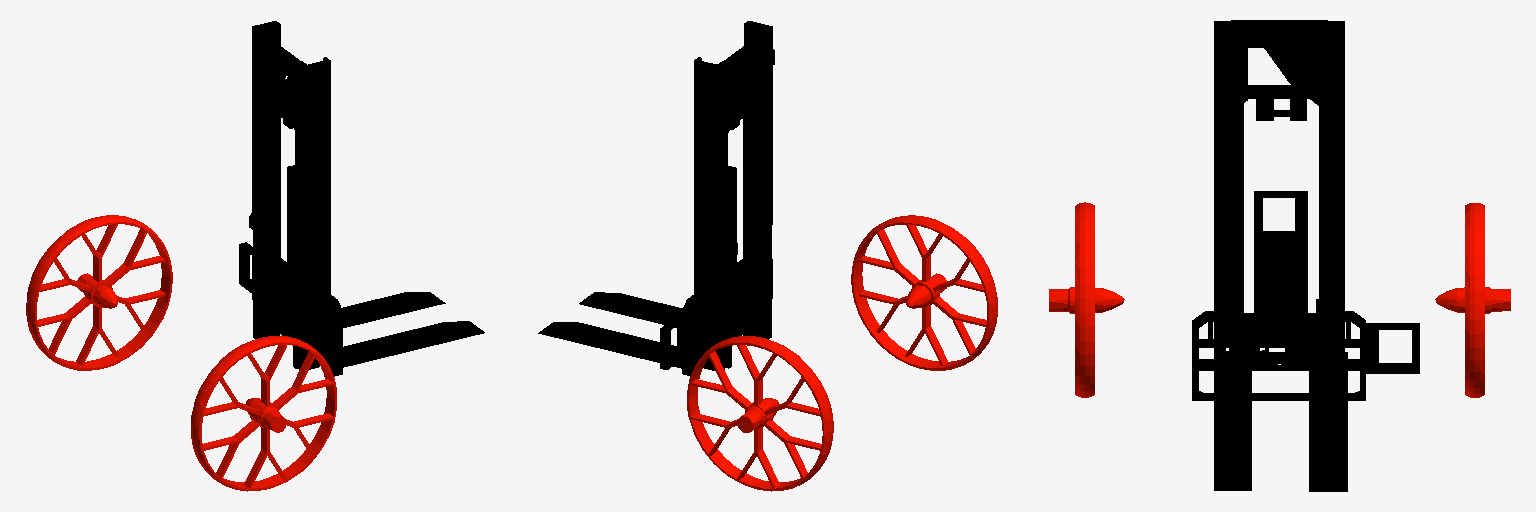
The robot description file, URDF, robot "puzzlebot":
<?xml version="1.0" ?>
<!-- =================================================================================== -->
<!-- |    This document was autogenerated by xacro from puzzlebot.urdf.xacro           | -->
<!-- |    EDITING THIS FILE BY HAND IS NOT RECOMMENDED                                 | -->
<!-- =================================================================================== -->
<robot name="puzzlebot">
  <!--
      Materials for RVIZ visualization (rgb color only)
  -->
  <material name="black">
    <color rgba="0.0 0.0 0.0 1.0"/>
  </material>
  <material name="dark_grey">
    <color rgba="0.2 0.2 0.2 1.0"/>
  </material>
  <material name="light_grey">
    <color rgba="0.7 0.7 0.7 1.0"/>
  </material>
  <material name="yellow">
    <color rgba="0.95 0.76 0.05 1.0"/>
  </material>
  <material name="white">
    <color rgba="1.0 1.0 1.0 1.0"/>
  </material>
  <material name="red">
    <color rgba="0.80 0.13 0.13 1.0"/>
  </material>
  <material name="blue">
    <color rgba="0.20 0.24 0.29 1.0"/>
  </material>
  <material name="orange">
    <color rgba="1.0 0.1 0.0 1.0"/>
  </material>
  <!--
    base_footprint:reference frame fo assuming the robot is at z=0 (floor) -->
  <link name="base_footprint"/>
  <joint name="base_footprint_to_base_link" type="fixed">
    <parent link="base_footprint"/>
    <child link="base_link"/>
    <!-- the chassis lays on the floor considering wheels radius-->
    <origin rpy="0 0 0" xyz="0 0 0.05"/>
  </joint>
  <link name="base_link"/>
  <joint name="base_link_to_chassis" type="fixed">
    <parent link="base_link"/>
    <child link="chassis"/>
    <origin rpy="0 0 0" xyz="0 0 0"/>
  </joint>
  <link name="chassis">
    <visual>
      <origin rpy="0 0 0" xyz="0.04 0 -0.05"/>
      <geometry>
        <mesh filename="../meshes2/puzzlebot_chassis_detailed.obj"/>
      </geometry>
      <material name="white"/>
    </visual>
    <collision>
      <origin rpy="0 0 0" xyz="0 0 0"/>
      <geometry>
        <box size="0.2 0.16 0.06"/>
      </geometry>
    </collision>
    <inertial>
      <origin rpy="0 0 0" xyz="0 0 0"/>
      <mass value="0.71"/>
      <inertia ixx="0.0017276666666666666" ixy="0.0" ixz="0.0" iyy="0.002579666666666667" iyz="0.0" izz="0.0038813333333333334"/>
    </inertial>
  </link>
  <link name="caster_wheel">
    <visual>
      <origin rpy="0 0 0" xyz="0 0 0"/>
      <geometry>
        <mesh filename="../meshes2/puzzlebot_caster_wheel.obj"/>
      </geometry>
      <material name="dark_grey"/>
    </visual>
    <collision>
      <origin rpy="0 0 0" xyz="0 0 0"/>
      <geometry>
        <sphere radius="0.0065"/>
      </geometry>
    </collision>
    <inertial>
      <origin rpy="0 0 0" xyz="0 0 0"/>
      <mass value="0.012"/>
      <inertia ixx="2.028e-07" ixy="0.0" ixz="0.0" iyy="2.028e-07" iyz="0.0" izz="2.028e-07"/>
    </inertial>
  </link>
  <joint name="chassis_to_caster" type="fixed">
    <parent link="chassis"/>
    <child link="caster_wheel"/>
    <origin rpy="0 0 0" xyz="-0.095 0.0 -0.0425"/>
  </joint>
  <!-- Left wheel -->
  <link name="left_wheel">
    <visual>
      <origin rpy="0 0 0" xyz="0 0 -0.046"/>
      <geometry>
        <mesh filename="../meshes/puzzlebot_wheel.obj"/>
      </geometry>
      <material name="orange"/>
    </visual>
    <collision>
      <origin rpy="1.570796326794895 0 0" xyz="0 0 0"/>
      <geometry>
        <cylinder length="0.01" radius="0.05"/>
      </geometry>
    </collision>
    <inertial>
      <origin rpy="0 0 0" xyz="0 0 0"/>
      <mass value="0.03"/>
      <inertia ixx="1.9000000000000004e-05" ixy="0.0" ixz="0.0" iyy="1.9000000000000004e-05" iyz="0.0" izz="3.7500000000000003e-05"/>
    </inertial>
  </link>
  <joint name="base_to_left_wheel" type="continuous">
    <parent link="chassis"/>
    <child link="left_wheel"/>
    <origin rpy="0 0 0" xyz="0.05 0.095 0"/>
    <axis xyz="0 1 0"/>
  </joint>
  <!-- RIGHT WHEEL -->
  <link name="right_wheel">
    <visual>
      <origin rpy="0 0 3.14159265358979" xyz="0 0 -0.046"/>
      <geometry>
        <mesh filename="../meshes/puzzlebot_wheel.obj"/>
      </geometry>
      <material name="orange"/>
    </visual>
    <collision>
      <origin rpy="1.570796326794895 0 0" xyz="0 0 0"/>
      <geometry>
        <cylinder length="0.01" radius="0.05"/>
      </geometry>
    </collision>
    <inertial>
      <origin rpy="0 0 0" xyz="0 0 0"/>
      <mass value="0.03"/>
      <inertia ixx="1.9000000000000004e-05" ixy="0.0" ixz="0.0" iyy="1.9000000000000004e-05" iyz="0.0" izz="3.7500000000000003e-05"/>
    </inertial>
  </link>
  <joint name="base_to_right_wheel" type="continuous">
    <parent link="chassis"/>
    <child link="right_wheel"/>
    <origin rpy="0 0 0" xyz="0.05 -0.095 0"/>
    <axis xyz="0 1 0"/>
  </joint>
  <!-- lidar -->
  <link name="lidar_link">
    <collision>
      <origin rpy="0 0 0" xyz="0 0 0"/>
      <geometry>
        <cylinder length="0.04" radius="0.05"/>
      </geometry>
    </collision>
    <inertial>
      <origin rpy="0 0 0" xyz="0 0 0"/>
      <mass value="0.1"/>
      <inertia ixx="7.583333333333335e-05" ixy="0.0" ixz="0.0" iyy="7.583333333333335e-05" iyz="0.0" izz="0.00012500000000000003"/>
    </inertial>
  </link>
  <joint name="chassis_to_lidar" type="fixed">
    <parent link="chassis"/>
    <child link="lidar_link"/>
    <origin rpy="0 0 3.14159265358979" xyz="0.05 0.0 0.115"/>
  </joint>
  <!-- outer_mast  -->
  <link name="outer_mast_link">
    <visual>
      <origin rpy="0 0 0" xyz="0.01 0.0 -0.0"/>
      <geometry>
        <mesh filename="../meshes2/outer_mast.obj"/>
      </geometry>
      <material name="black"/>
    </visual>
    <collision>
      <origin rpy="0 0 0" xyz="0 0 0"/>
      <geometry>
        <cylinder length="0.04" radius="0.05"/>
      </geometry>
    </collision>
    <inertial>
      <origin rpy="0 0 0" xyz="0 0 0"/>
      <mass value="0.1"/>
      <inertia ixx="0.001" ixy="0" ixz="0" iyy="0.001" iyz="0" izz="0.001"/>
    </inertial>
  </link>
  <joint name="outer_mast_joint" type="fixed">
    <parent link="chassis"/>
    <child link="outer_mast_link"/>
    <origin rpy="0 0 0" xyz="0.12 0.0 -0.04"/>
  </joint>
  <link name="inner_mast_link">
    <visual>
      <origin rpy="0 0 0" xyz="0.0 0.0 -0.023"/>
      <geometry>
        <mesh filename="../meshes2/inner_mast.stl"/>
      </geometry>
      <material name="black"/>
    </visual>
    <collision>
      <origin rpy="0 0 0" xyz="0 0 0"/>
      <geometry>
        <cylinder length="0.04" radius="0.05"/>
      </geometry>
    </collision>
    <inertial>
      <origin rpy="0 0 0" xyz="0 0 0"/>
      <mass value="0.1"/>
      <inertia ixx="0.001" ixy="0" ixz="0" iyy="0.001" iyz="0" izz="0.001"/>
    </inertial>
  </link>
  <joint name="inner_mast_joint" type="prismatic">
    <parent link="outer_mast_link"/>
    <child link="inner_mast_link"/>
    <origin rpy="0 0 0" xyz="0 0 0"/>
    <axis xyz="0 0 1"/>
    <limit effort="10" lower="0.0" upper="0.20" velocity="0.1"/>
  </joint>
  <!-- FORKS -->
  <link name="forks_link">
    <visual>
      <origin rpy="0 0 0" xyz="-0.01 0.0 -0.023"/>
      <geometry>
        <mesh filename="../meshes/forks.obj"/>
      </geometry>
      <material name="black"/>
    </visual>
    <collision>
      <origin rpy="0 0 0" xyz="0 0 0"/>
      <geometry>
        <cylinder length="0.04" radius="0.05"/>
      </geometry>
    </collision>
    <inertial>
      <origin rpy="0 0 0" xyz="0 0 0"/>
      <mass value="0.1"/>
      <inertia ixx="0.001" ixy="0" ixz="0" iyy="0.001" iyz="0" izz="0.001"/>
    </inertial>
  </link>
  <joint name="forks_joint" type="prismatic">
    <parent link="inner_mast_link"/>
    <child link="forks_link"/>
    <origin rpy="0 0 0" xyz="0.01 0 0"/>
    <axis xyz="0 0 1"/>
    <limit effort="10" lower="0.0" upper="0.20" velocity="0.1"/>
  </joint>
  <!-- camera -->
  <link name="camera_link">
    <collision>
      <origin rpy="0 0 0" xyz="0 0 0"/>
      <geometry>
        <box size="0.05 0.01 0.06"/>
      </geometry>
    </collision>
    <inertial>
      <origin rpy="0 0 0" xyz="0 0 0"/>
      <mass value="0.007"/>
      <inertia ixx="2.1583333333333336e-06" ixy="0.0" ixz="0.0" iyy="3.5583333333333337e-06" iyz="0.0" izz="1.516666666666667e-06"/>
    </inertial>
  </link>
  <joint name="chassis_to_camera" type="fixed">
    <parent link="forks_link"/>
    <child link="camera_link"/>
    <origin rpy="0 0 0" xyz="0.0 0.0 0.12"/>
  </joint>
  <!-- optical frame -->
  <link name="camera_color_optical_frame"/>
  <joint name="optical_frame" type="fixed">
    <parent link="camera_link"/>
    <child link="camera_color_optical_frame"/>
    <origin rpy="-1.570796326794895 0 -1.570796326794895" xyz="0.0 0 0"/>
  </joint>
</robot>

--- Render facts (derived) ---
Views: 3 orthographic renders of the robot side by side, from view 1: azimuth 30°, elevation 25°; view 2: azimuth 150°, elevation 25°; view 3: azimuth 270°, elevation 25°.
Model puzzlebot with 12 links and 11 joints (2 continuous, 2 prismatic, 7 fixed), rooted at base_footprint, posed every joint at zero.
Visible links, largest first — view 1: outer_mast_link, forks_link, right_wheel, left_wheel, inner_mast_link; view 2: outer_mast_link, right_wheel, left_wheel, forks_link, inner_mast_link; view 3: forks_link, outer_mast_link, inner_mast_link, right_wheel, left_wheel.
Link boxes in pixels (x1,y1,x2,y2): outer_mast_link: (249, 21, 330, 338); forks_link: (239, 165, 484, 376); right_wheel: (191, 336, 336, 491); left_wheel: (26, 215, 172, 370); inner_mast_link: (258, 87, 319, 369); outer_mast_link: (694, 21, 774, 338); right_wheel: (851, 215, 997, 370); left_wheel: (687, 336, 833, 491); forks_link: (538, 166, 771, 375); inner_mast_link: (703, 81, 764, 370); forks_link: (1192, 191, 1419, 491); outer_mast_link: (1214, 20, 1344, 355); inner_mast_link: (1230, 85, 1332, 358); right_wheel: (1049, 202, 1124, 397); left_wheel: (1435, 203, 1510, 397).
Size in the robot's own frame: 0.227 by 0.22 by 0.2232 metres.
5 mesh visuals loaded from 6 distinct referenced files (1 binary STL, 3 OBJ); not drawn: 2 (reference not matched to a file when rendering).
